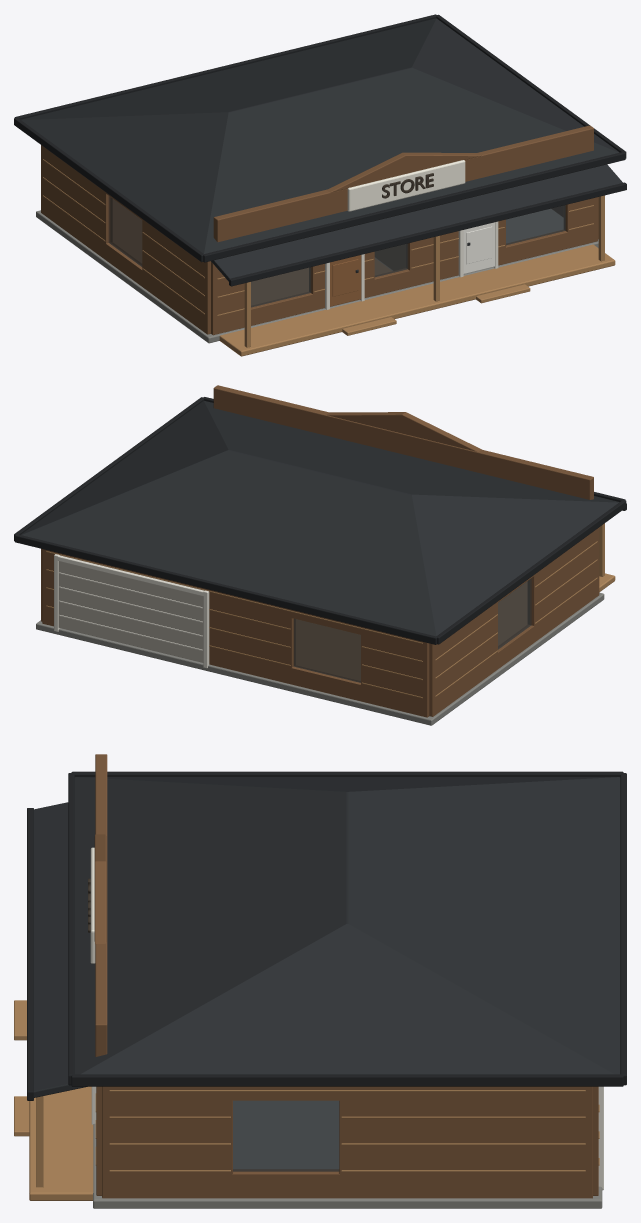
File: CanadaRuralStore.glb
3 renders of one model, top to bottom at view 1: azimuth 30°, elevation 25°; view 2: azimuth 150°, elevation 25°; view 3: azimuth 270°, elevation 25°, orthographic. The views are drawn at different scales.
Visible parts, largest first — view 1: RoofStatic_Mesh, BuildingStatic_Mesh, DoorWarehouseWhite_Mesh, DoorStoreWood_Mesh; view 2: RoofStatic_Mesh, BuildingStatic_Mesh, GarageDoor_Mesh; view 3: RoofStatic_Mesh, BuildingStatic_Mesh.
Part boxes in pixels (box(x1,y1,x2,y2)): RoofStatic_Mesh: box(14, 14, 626, 286); BuildingStatic_Mesh: box(36, 125, 615, 356); DoorWarehouseWhite_Mesh: box(463, 222, 494, 273); DoorStoreWood_Mesh: box(330, 255, 361, 306); RoofStatic_Mesh: box(14, 397, 626, 644); BuildingStatic_Mesh: box(36, 385, 615, 725); GarageDoor_Mesh: box(58, 561, 203, 662); RoofStatic_Mesh: box(27, 771, 626, 1100); BuildingStatic_Mesh: box(14, 754, 603, 1208).
Size of the model in its own units: 17.66 by 5.64 by 14.98.
